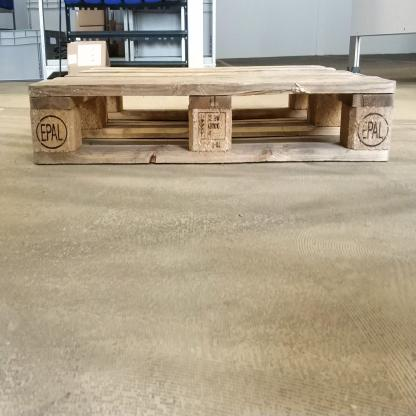BoxFace: (23, 58, 399, 169)
